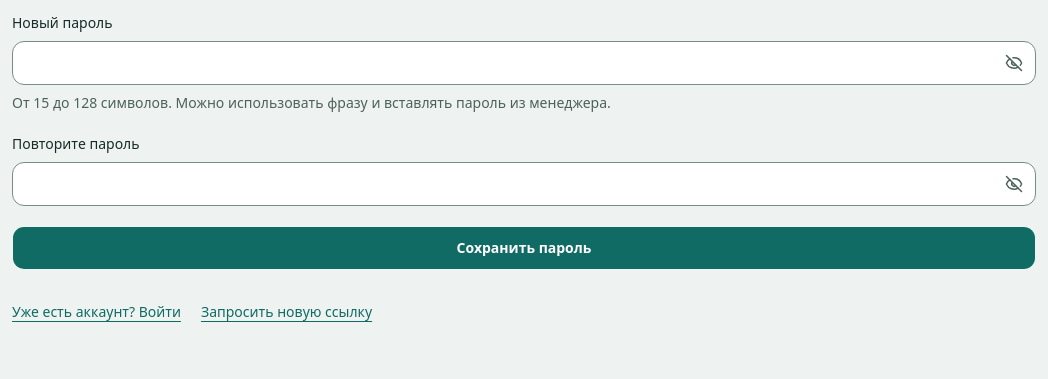
Test: SPEC-0031 password forms › keeps reset secrets out of the URL and rejects mismatching passwords
The image size is (1048, 379).
In the password field labelled "Новый пароль": (524, 63) 12,41 -> 1036,85, type "a synthetic passphrase"
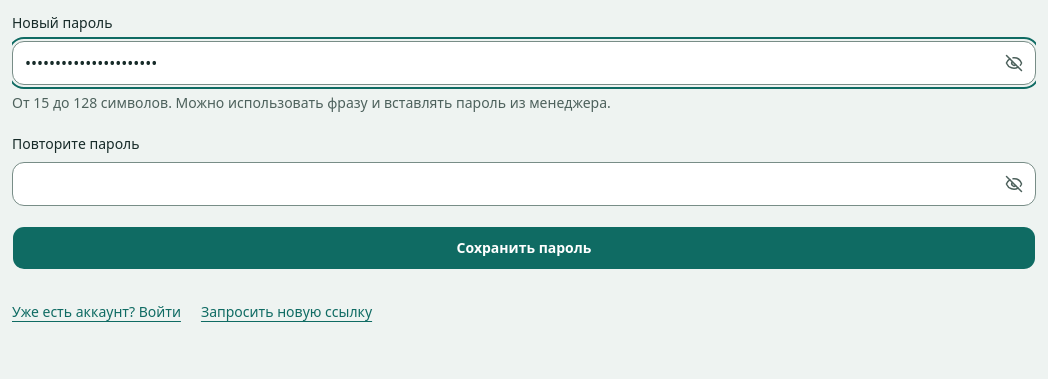
In the password field labelled "Повторите пароль": (524, 184) 12,162 -> 1036,206, type "another synthetic phrase"
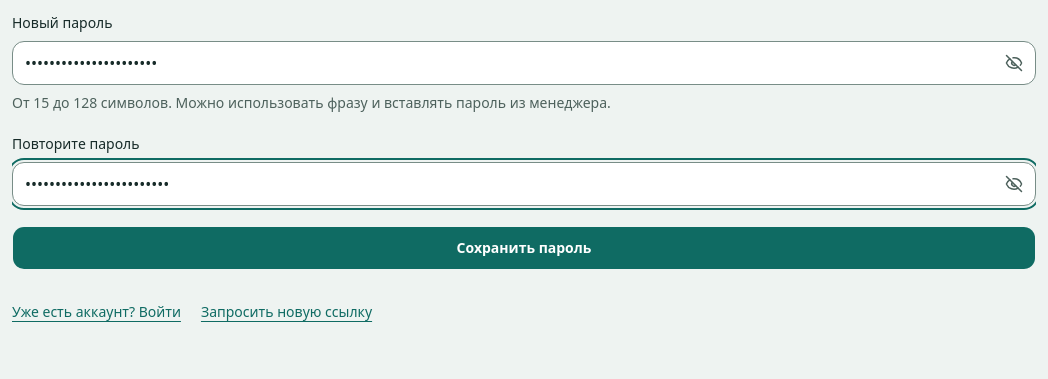
Click the button "Сохранить пароль": (524, 248) 12,226 -> 1036,270
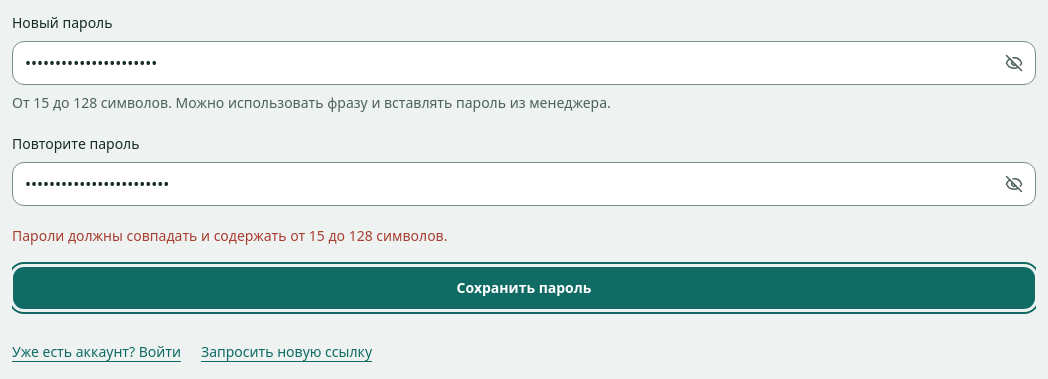
expect the message shows "должны совпадать": met, box 12,226 -> 448,245
In the password field labelled "Повторите пароль": (524, 184) 12,162 -> 1036,206, type "a synthetic passphrase"
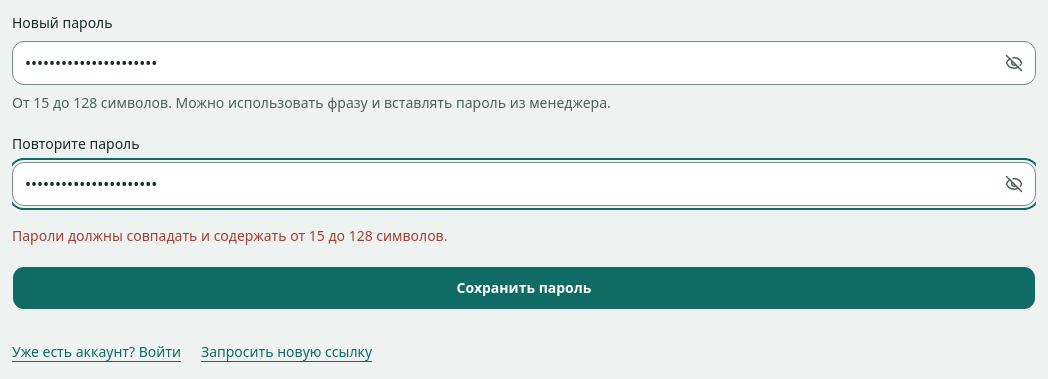
Click the button "Сохранить пароль": (524, 288) 12,266 -> 1036,310
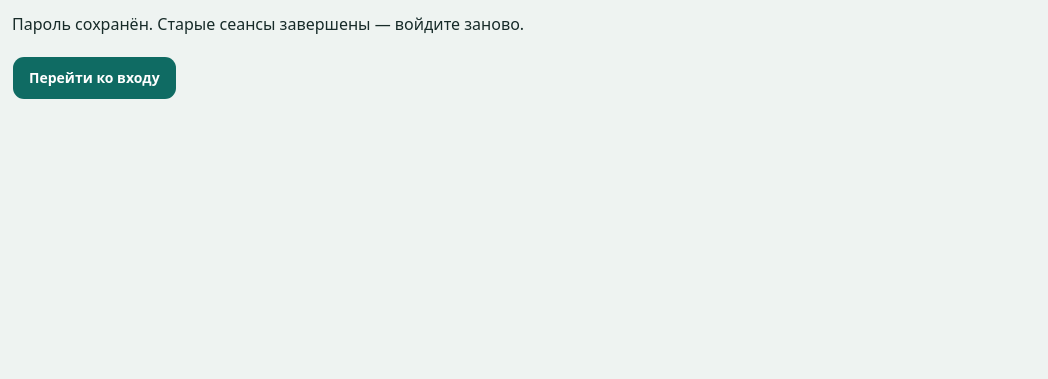
expect the message shows "Старые сеансы завершены": met, box 12,13 -> 524,35
